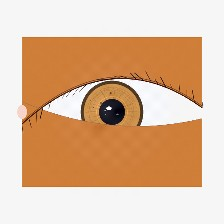pinguecula_lesion: (42, 86, 88, 123)
